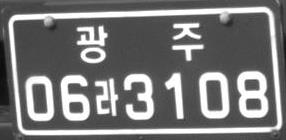0: (198, 70, 230, 119), (24, 75, 55, 121)
1: (161, 71, 193, 120)
3: (123, 72, 155, 121)
6: (60, 73, 91, 121)
8: (236, 70, 269, 118)
광주_D: (76, 21, 204, 64)
라: (95, 78, 118, 117)
